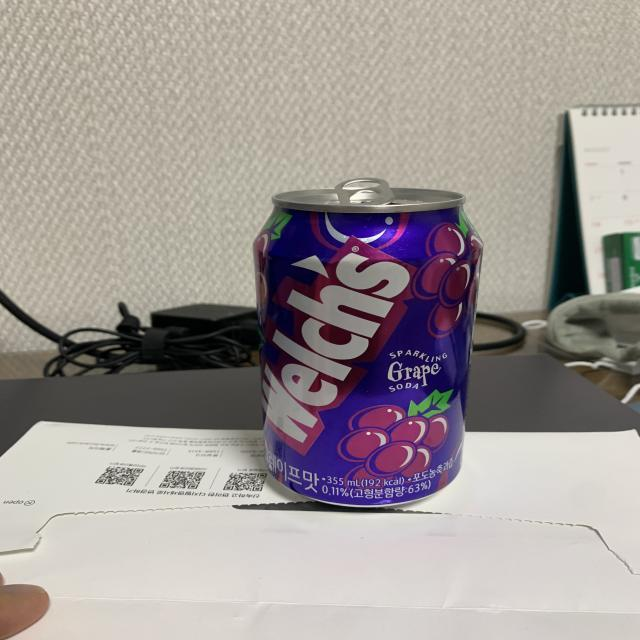metal-can: (253, 180, 485, 510)
